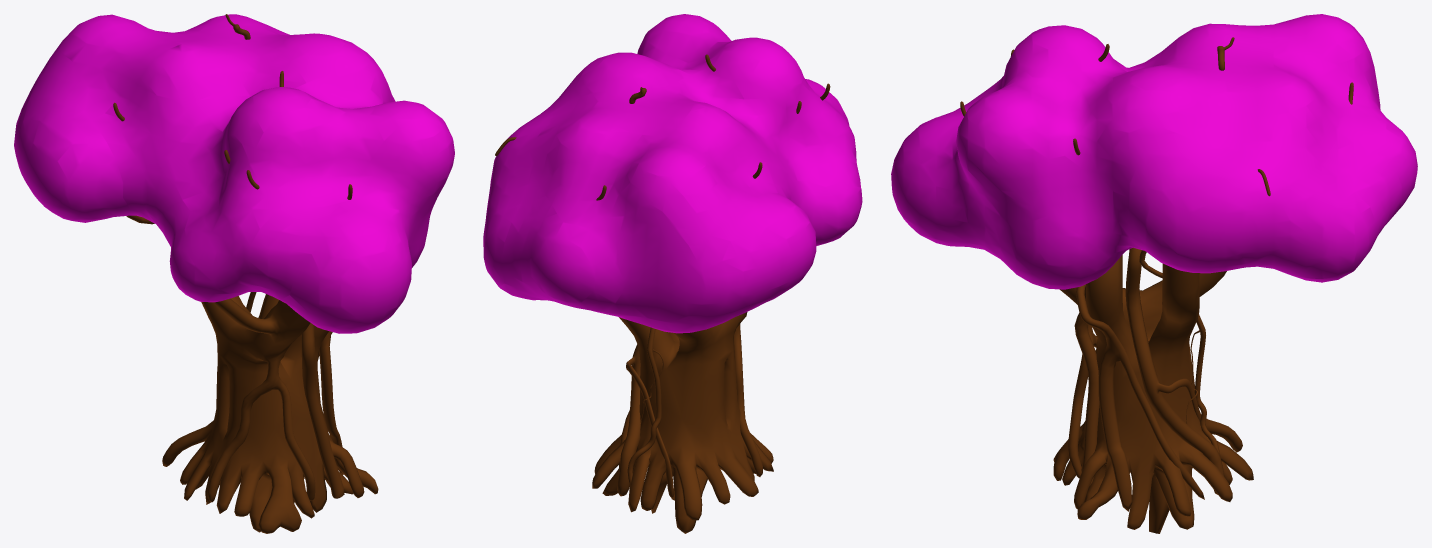
The model's file is tree.fbx.
The picture shows the model from 3 angles, left to right: view 1: azimuth 30°, elevation 25°; view 2: azimuth 150°, elevation 25°; view 3: azimuth 270°, elevation 25°; orthographic projection. The views are drawn at different scales.
Visible parts, largest first — view 1: Tree_Main; view 2: Tree_Main; view 3: Tree_Main.
Part boxes in pixels (left/top/right/bottom): Tree_Main: left=14, top=14, right=454, bottom=533; Tree_Main: left=483, top=14, right=862, bottom=533; Tree_Main: left=891, top=14, right=1417, bottom=533.
Bounding box in the file's own units: 968 × 1329 × 1310.
